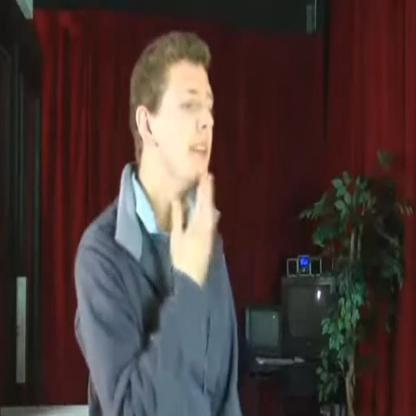ThankYou: (125, 27, 253, 291)
